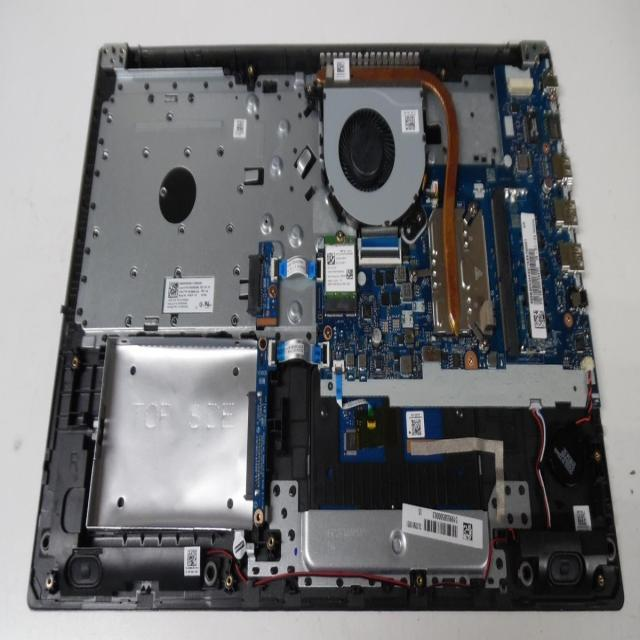SSD: (322, 236, 362, 322)
Screw: (323, 242, 357, 315)
